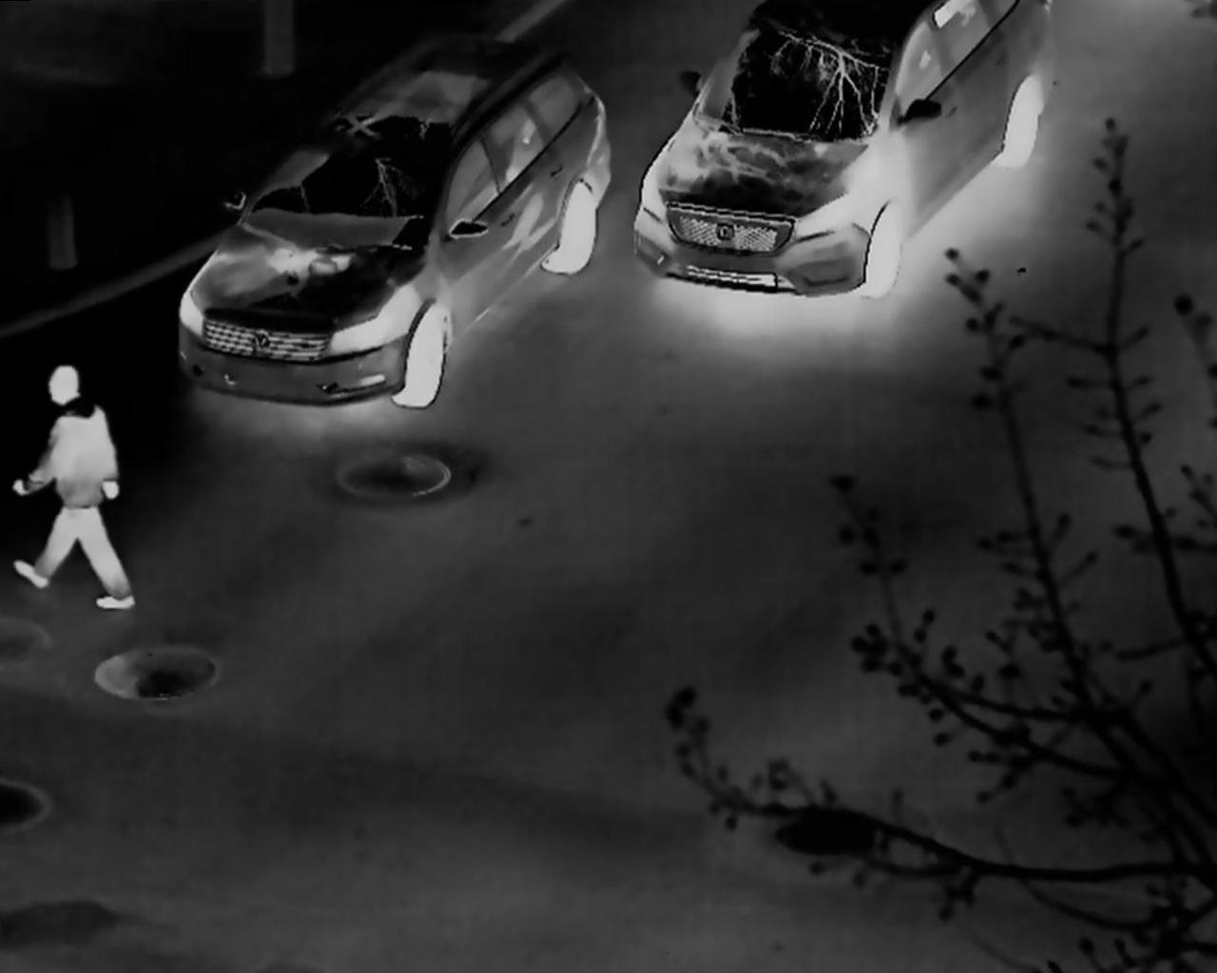person: (13, 363, 136, 609)
